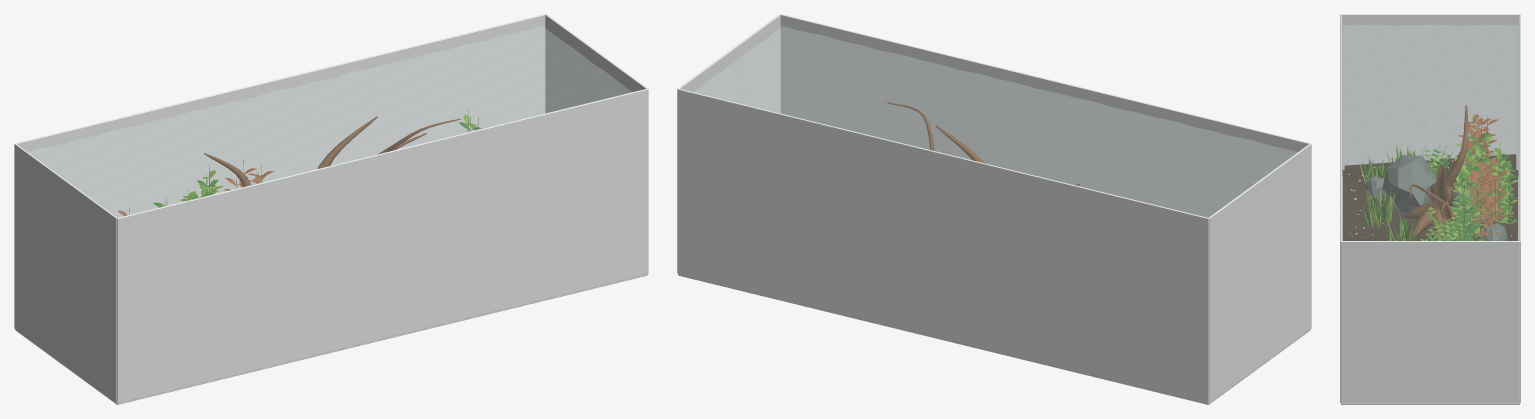
File: aquarium.glb
The picture shows the model from 3 angles, left to right: view 1: azimuth 30°, elevation 25°; view 2: azimuth 150°, elevation 25°; view 3: azimuth 270°, elevation 25°; orthographic projection. The views are drawn at different scales.
Visible parts, largest first — view 1: tank.glass.front, tank.glass.back, water.surface, tank.glass.left, tank.glass.right, tank.glass.base, hardscape.wood.angular; view 2: tank.glass.back, tank.glass.front, water.surface, tank.glass.left, tank.glass.right, tank.glass.base; view 3: water.surface, tank.glass.right, tank.glass.left, bed.left, hardscape.wood.angular, hardscape.stone.00, plants.stem.020, plants.stem.021, plants.stem.016, plants.stem.015, tank.glass.back, tank.glass.front (+17 smaller).
Part boxes in pixels (x1=…): tank.glass.front: x1=117, y1=89, x2=647, y2=403; tank.glass.back: x1=15, y1=14, x2=545, y2=217; water.surface: x1=28, y1=26, x2=631, y2=217; tank.glass.left: x1=14, y1=143, x2=117, y2=403; tank.glass.right: x1=545, y1=14, x2=648, y2=273; tank.glass.base: x1=15, y1=274, x2=647, y2=404; hardscape.wood.angular: x1=204, y1=116, x2=460, y2=187; tank.glass.back: x1=678, y1=89, x2=1208, y2=403; tank.glass.front: x1=780, y1=14, x2=1310, y2=217; water.surface: x1=694, y1=26, x2=1297, y2=217; tank.glass.left: x1=1208, y1=143, x2=1311, y2=403; tank.glass.right: x1=677, y1=14, x2=780, y2=273; tank.glass.base: x1=678, y1=274, x2=1310, y2=404; water.surface: x1=1343, y1=25, x2=1517, y2=240; tank.glass.right: x1=1341, y1=241, x2=1519, y2=403; tank.glass.left: x1=1341, y1=14, x2=1519, y2=176; bed.left: x1=1344, y1=154, x2=1516, y2=240; hardscape.wood.angular: x1=1404, y1=105, x2=1469, y2=239; hardscape.stone.00: x1=1382, y1=155, x2=1436, y2=214; plants.stem.020: x1=1468, y1=154, x2=1508, y2=239; plants.stem.021: x1=1449, y1=186, x2=1486, y2=240; plants.stem.016: x1=1491, y1=142, x2=1518, y2=233; plants.stem.015: x1=1458, y1=113, x2=1498, y2=170; tank.glass.back: x1=1519, y1=14, x2=1520, y2=403; tank.glass.front: x1=1340, y1=14, x2=1341, y2=403.
Bounding box in the file's own units: 0.903 × 0.303 × 0.303.
